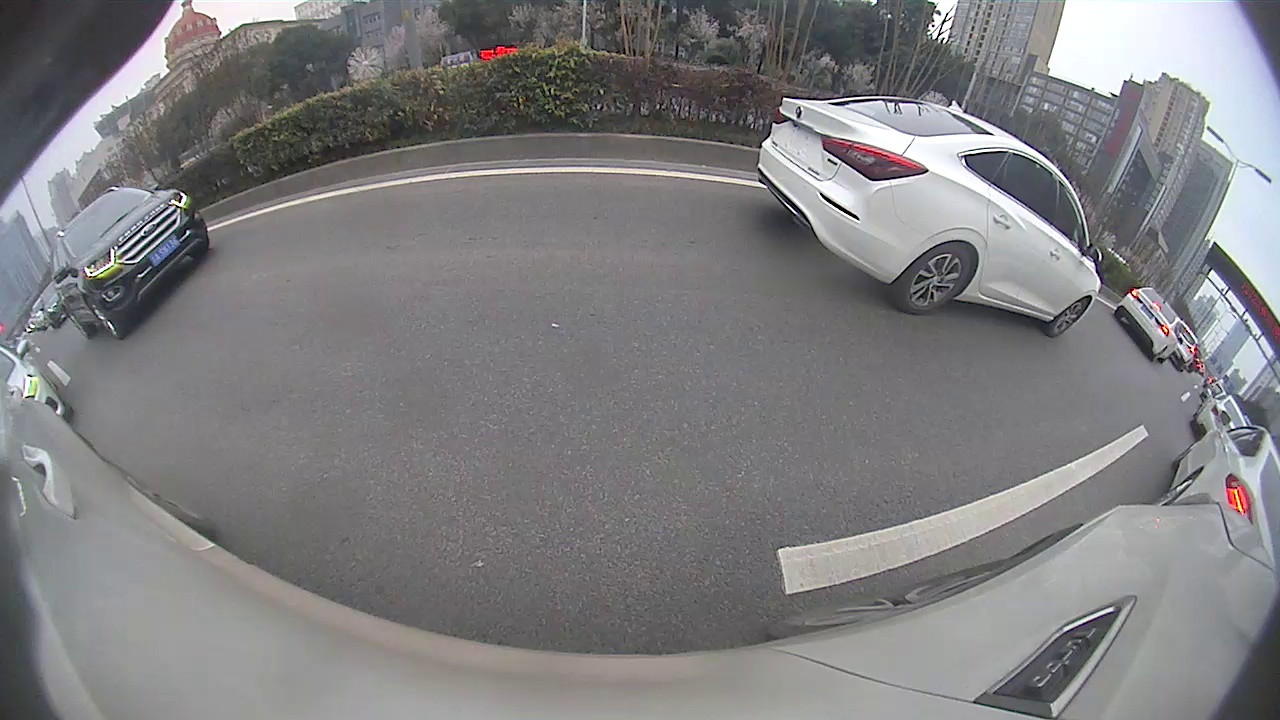car: (755, 93, 1102, 343), (47, 184, 212, 340), (1152, 410, 1278, 551), (1113, 286, 1186, 362)
front: (1048, 295, 1091, 339), (89, 300, 124, 339)
rear: (897, 242, 975, 316)
